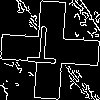T: (25, 25, 60, 74)
